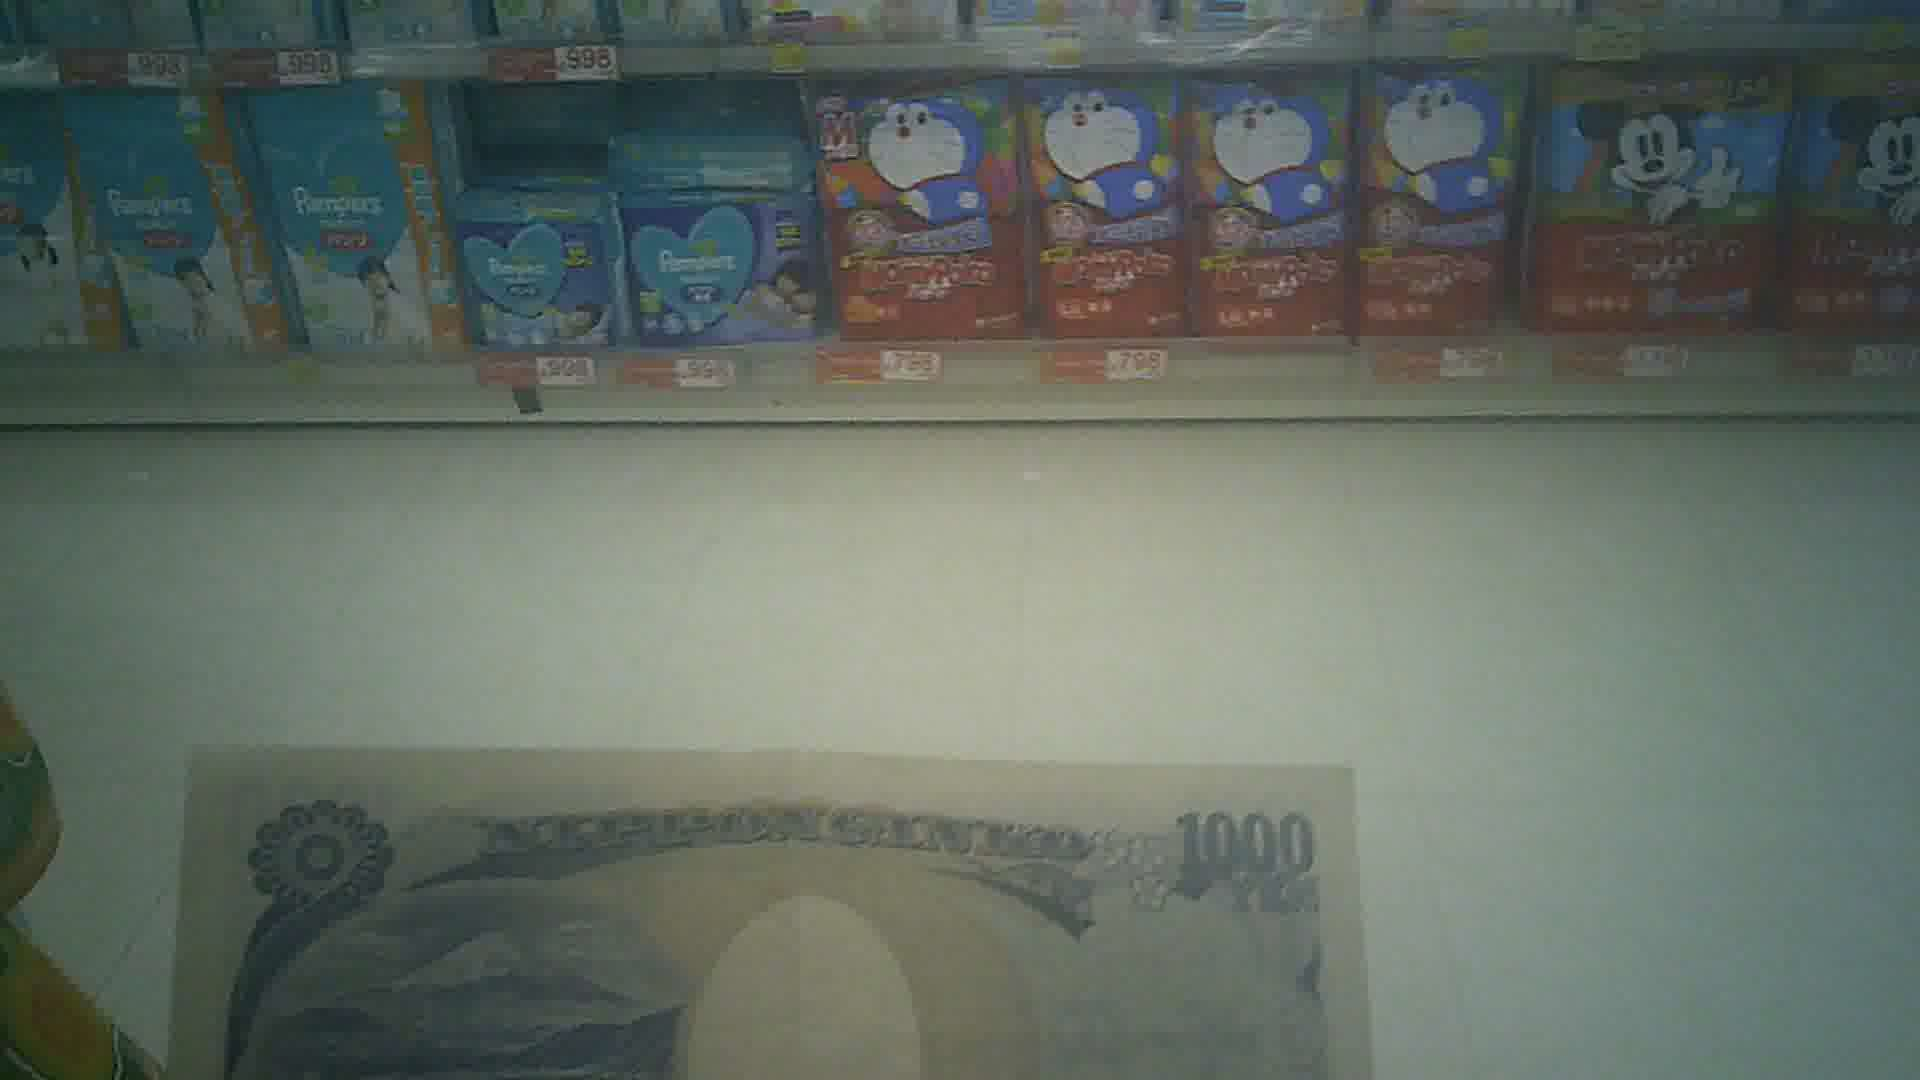1,000 Yen: (164, 724, 1402, 1065)
